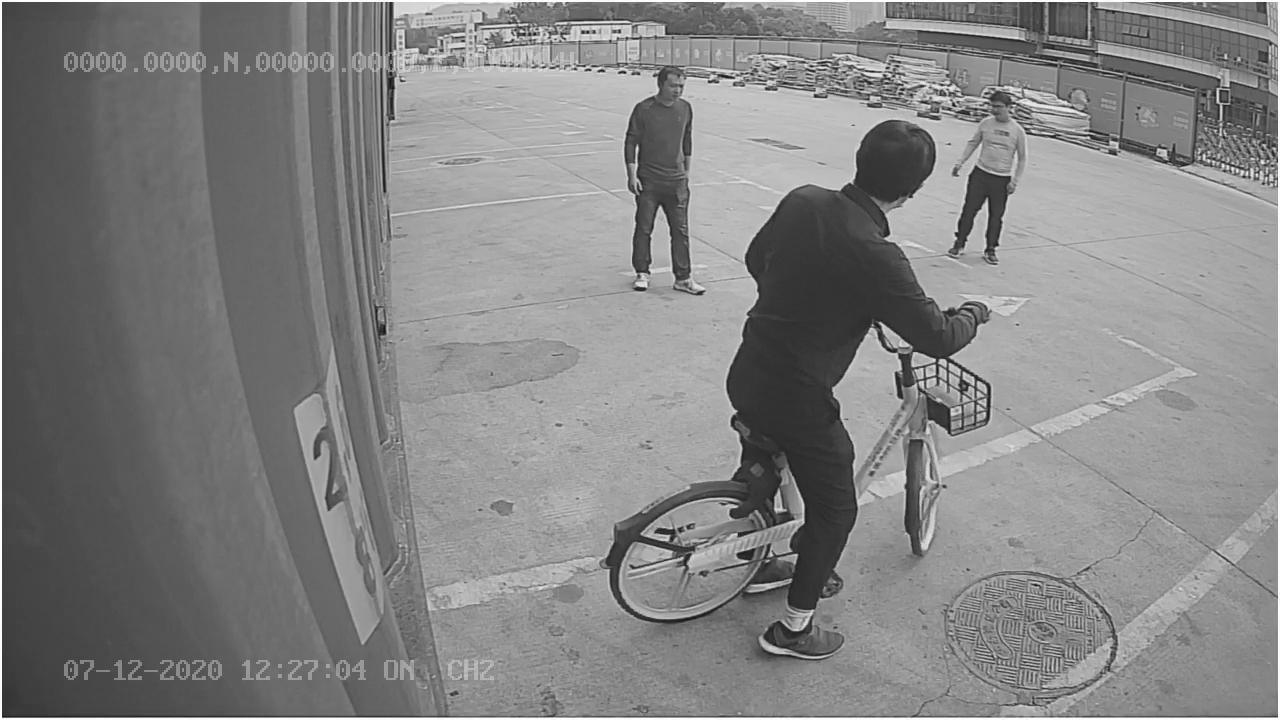person: (622, 60, 716, 297)
